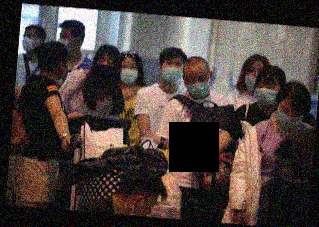mask_weared_incorrect: (242, 64, 265, 93), (133, 193, 158, 216)
with_mask: (273, 104, 303, 130), (183, 73, 211, 100), (252, 82, 278, 108), (93, 57, 117, 84), (159, 58, 183, 84), (118, 63, 137, 85), (55, 32, 70, 53), (21, 33, 36, 51)
